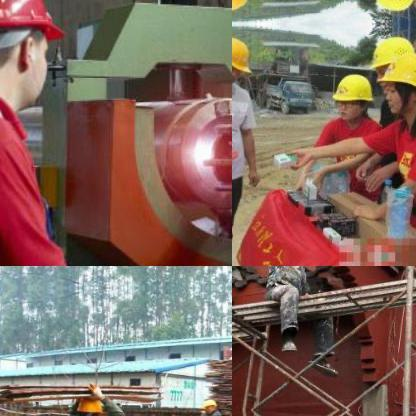Helmet: (0, 0, 70, 106), (377, 47, 415, 116), (332, 69, 378, 123), (370, 34, 415, 78), (232, 31, 254, 91), (76, 392, 103, 415), (370, 0, 415, 10), (202, 396, 216, 414)
